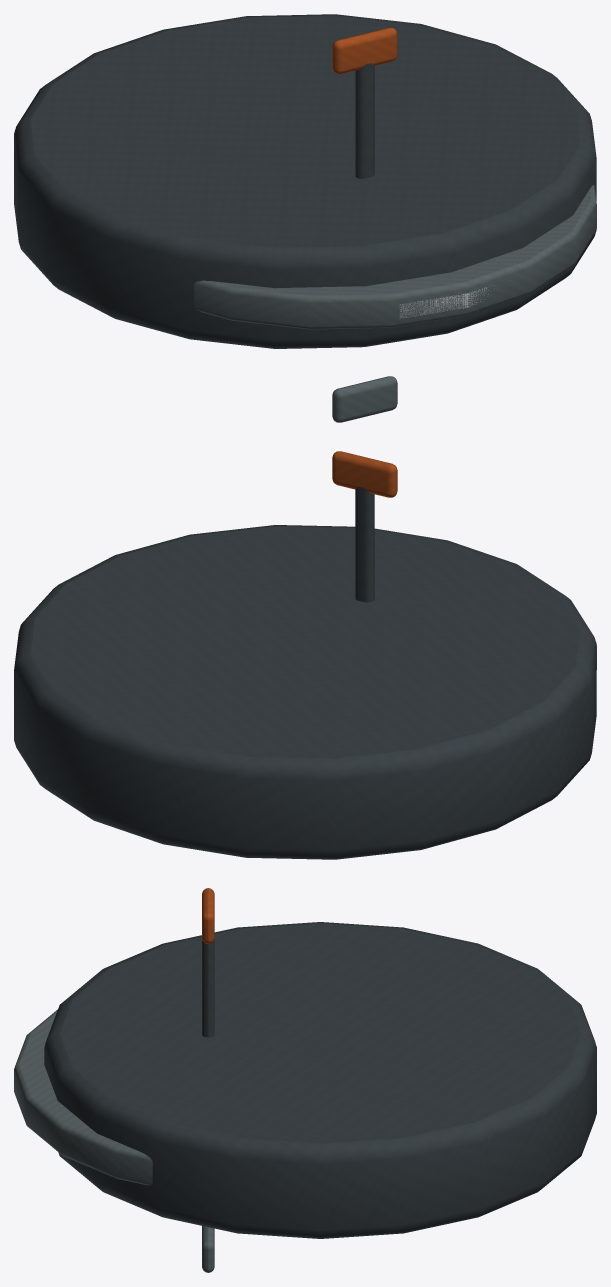
File: WallClock.fbx
3 views of the same model, one above another, from view 1: azimuth 30°, elevation 25°; view 2: azimuth 150°, elevation 25°; view 3: azimuth 270°, elevation 25° (orthographic). The views are drawn at different scales.
Visible parts, largest first — view 1: WallClock_Mesh; view 2: WallClock_Mesh; view 3: WallClock_Mesh.
Boxes of the visible parts, x1,y1,x2,y2 form: WallClock_Mesh: (14, 14, 596, 422); WallClock_Mesh: (14, 451, 596, 859); WallClock_Mesh: (14, 888, 596, 1272).
Size of the model in its own units: 64 by 46 by 67.5.
